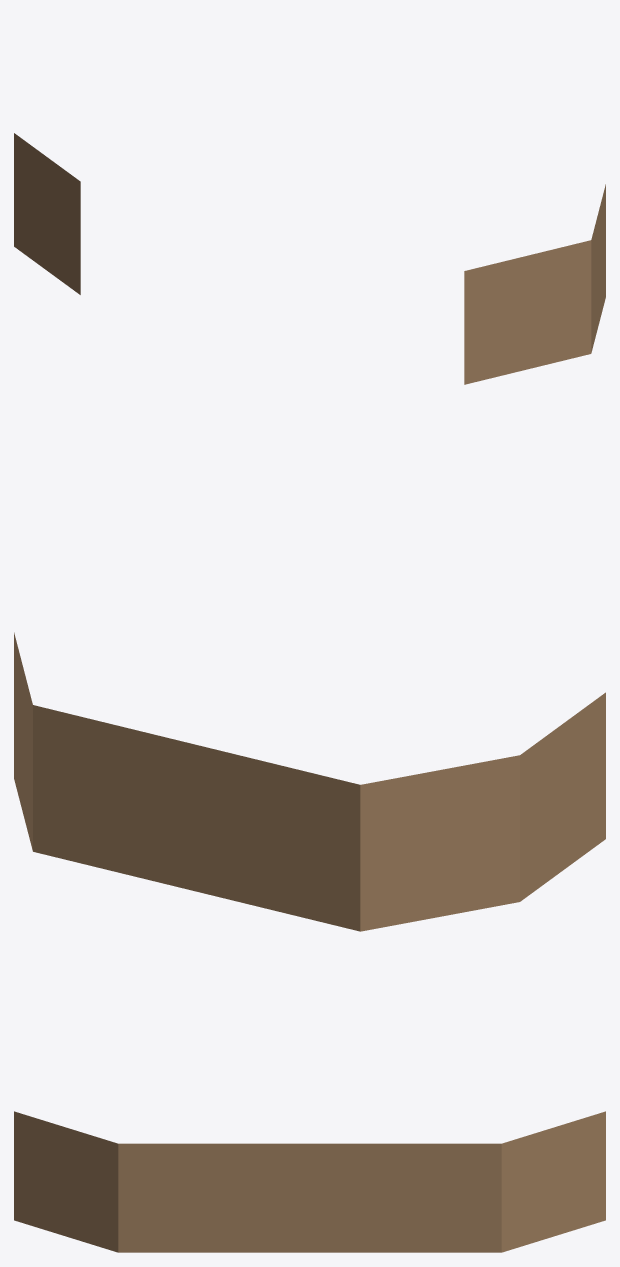
File: 1308-Buildings-shell-pieces-facade-bay-wall-round-an-opening-reveals-sill-head-emitBa.glb
The picture shows the model from 3 angles, top to bottom: view 1: azimuth 30°, elevation 25°; view 2: azimuth 150°, elevation 25°; view 3: azimuth 270°, elevation 25°; orthographic projection. The views are drawn at different scales.
Parts seen in each view (by area): view 1: emitBay; view 2: emitBay; view 3: emitBay.
Part boxes in pixels (x1,y1,x2,y2): emitBay: [14, 133, 605, 384]; emitBay: [14, 632, 605, 931]; emitBay: [14, 1111, 605, 1252].
Size of the model in its own units: 11 by 3.05 by 15.
